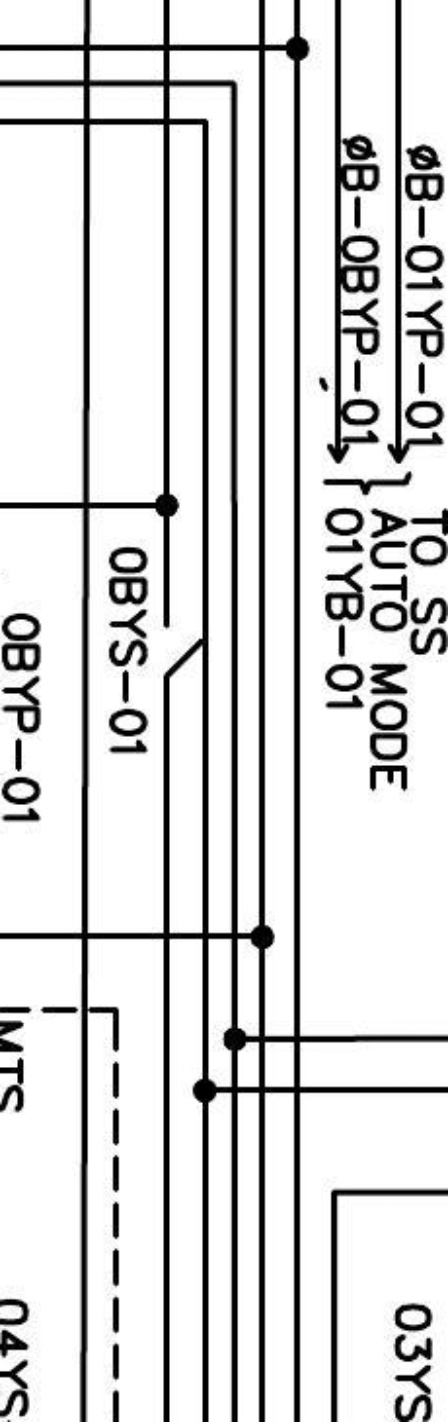115_ds: (162, 620, 202, 678)
